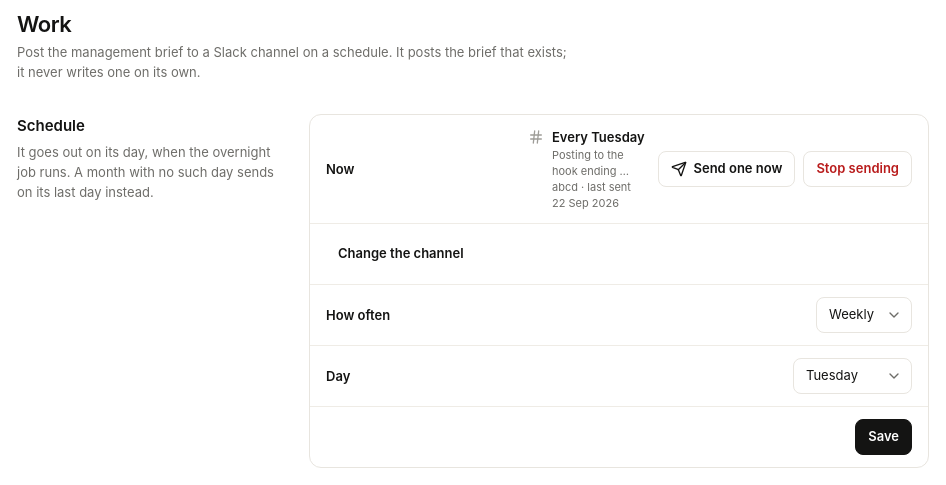
Test: BriefDeliveryPage › sends one now to prove it works
Expected: the text "Every Tuesday" is shown, [552,127,646,147]
Step 1. Click the button "Send one now" → click(727, 169), box [658,151,795,187]
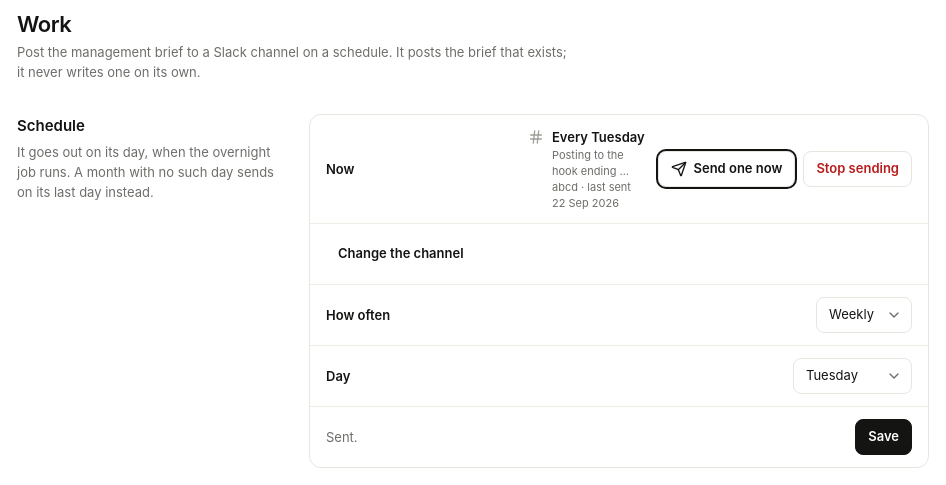
Expected: the message shows "Sent", [326,429,358,445]
